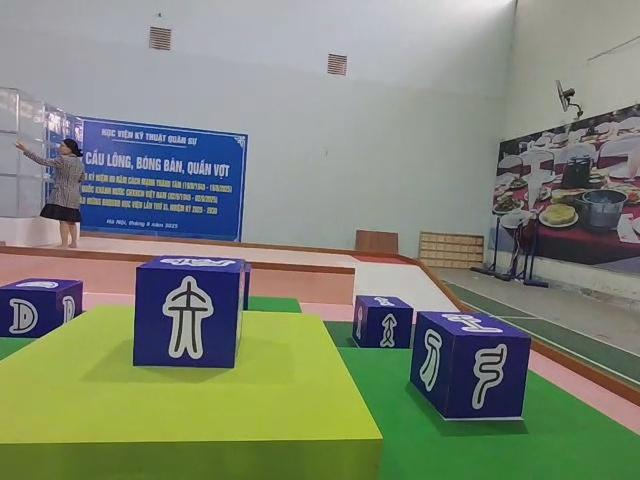R2 Fake Blue: (411, 313, 533, 424), (134, 258, 248, 373)
R2 Real Blue: (0, 280, 82, 341), (351, 296, 413, 351)
